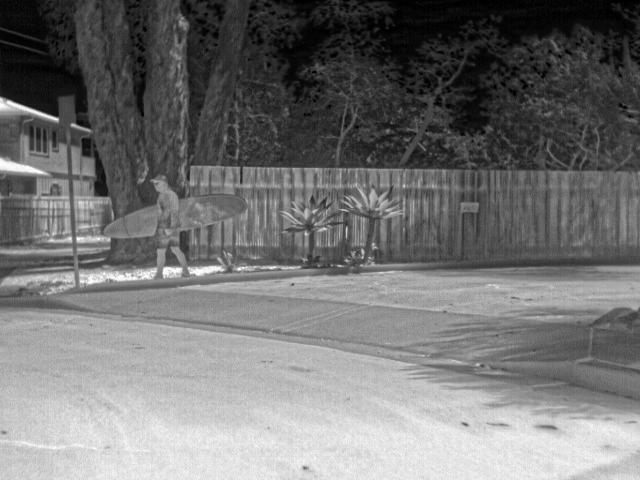person: (148, 174, 191, 282)
